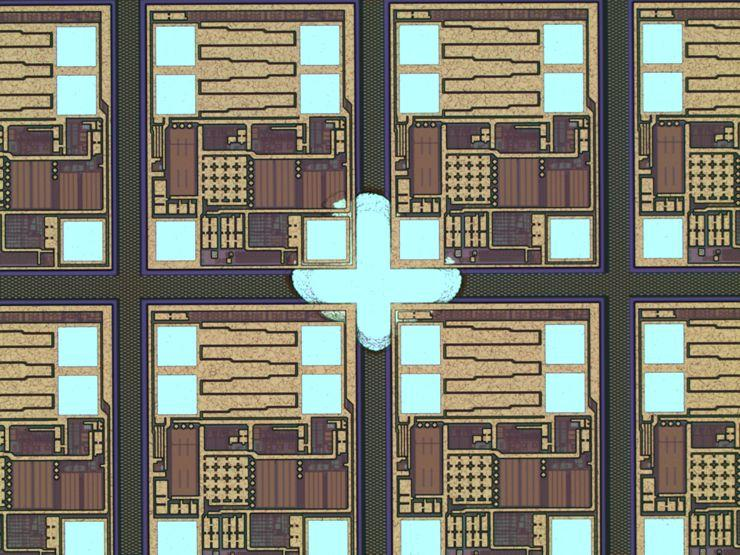BLOCK ETCH: (287, 185, 474, 362)
